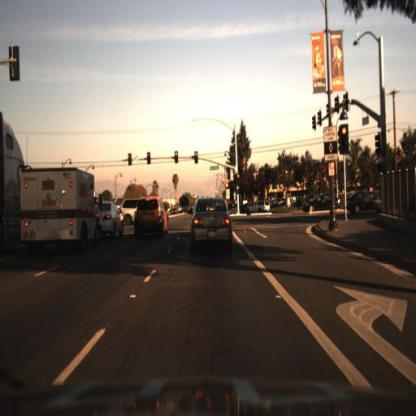car: (17, 159, 104, 249), (187, 194, 236, 258), (132, 192, 179, 243), (98, 201, 126, 241), (300, 189, 340, 216), (242, 197, 274, 219), (119, 191, 138, 227)
trafficLight-Red: (340, 122, 350, 137), (193, 148, 201, 164), (125, 150, 133, 163), (146, 149, 153, 161), (235, 172, 243, 182), (174, 149, 180, 162)
